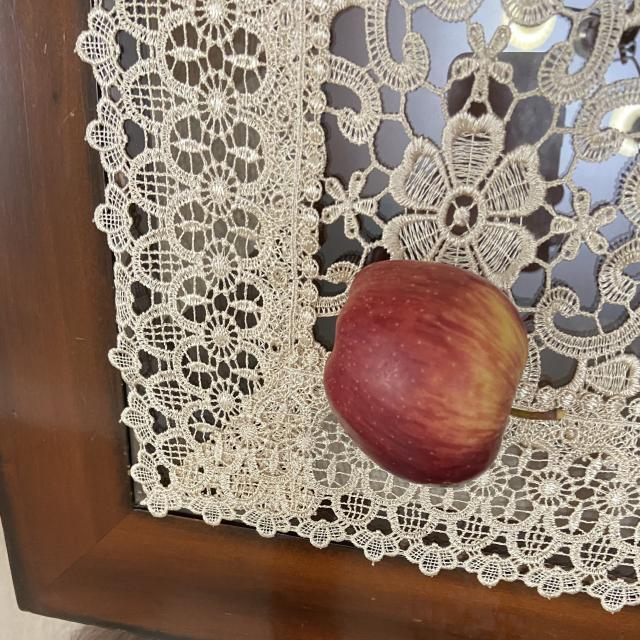apple: (320, 256, 568, 487)
